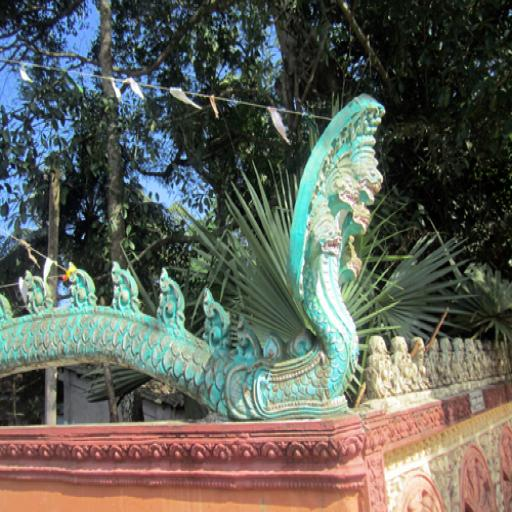hoa: (235, 442, 260, 465), (168, 440, 191, 462), (340, 436, 362, 457), (311, 442, 332, 462), (148, 442, 168, 463), (211, 443, 233, 462), (128, 442, 146, 464), (191, 443, 210, 462), (263, 444, 283, 462), (288, 442, 306, 461), (110, 446, 128, 464), (56, 443, 72, 463), (6, 442, 22, 461), (91, 443, 106, 463), (71, 445, 85, 466), (23, 444, 37, 464), (38, 446, 54, 462)
la: (364, 332, 397, 394), (390, 334, 418, 392), (414, 332, 436, 387), (428, 330, 443, 392), (465, 333, 484, 381), (440, 337, 453, 386), (453, 331, 463, 385)
lua: (157, 265, 184, 327), (20, 267, 54, 313), (109, 261, 139, 313), (234, 317, 260, 366), (204, 285, 222, 349), (68, 271, 98, 309)
ran: (254, 96, 397, 418)
